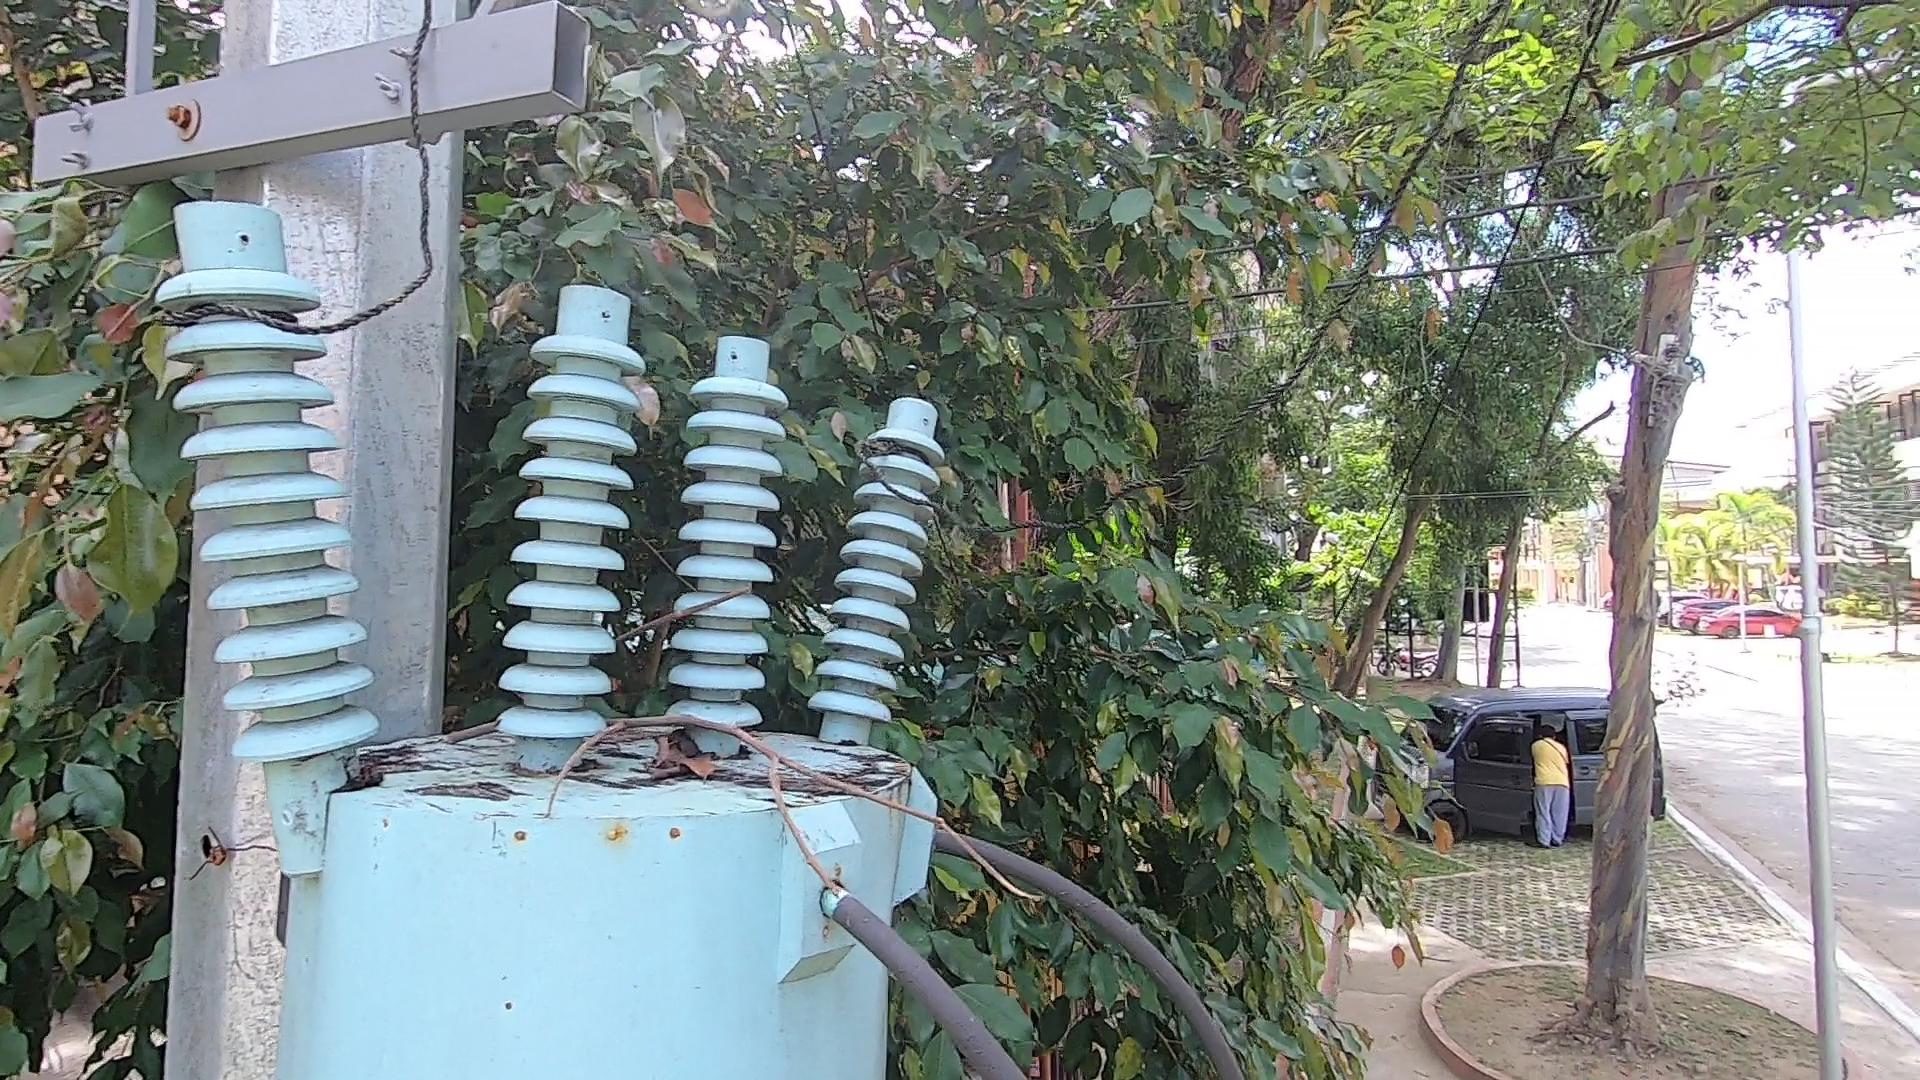leaf: (626, 709, 719, 791), (336, 746, 394, 804)
tree branch: (406, 705, 1054, 943)
